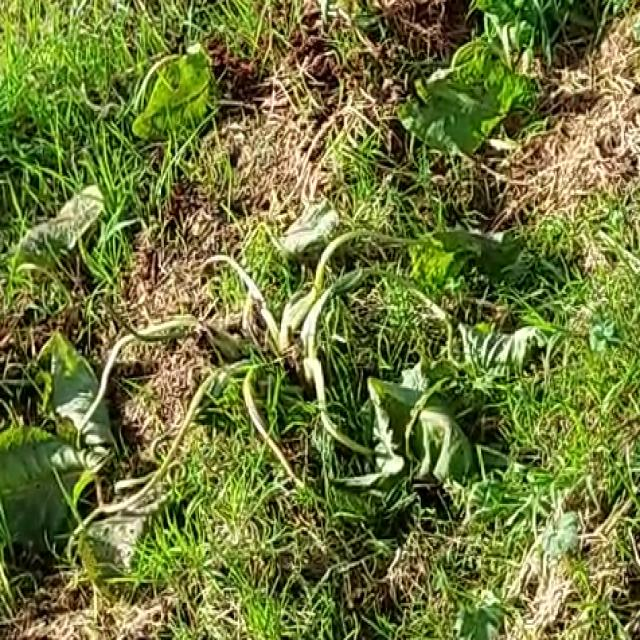organic waste: (0, 52, 543, 566)
